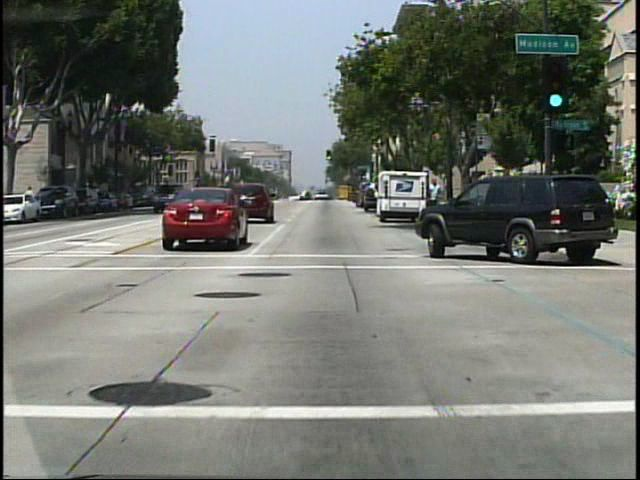person: (425, 178, 443, 220), (351, 184, 365, 211), (26, 183, 38, 211)
